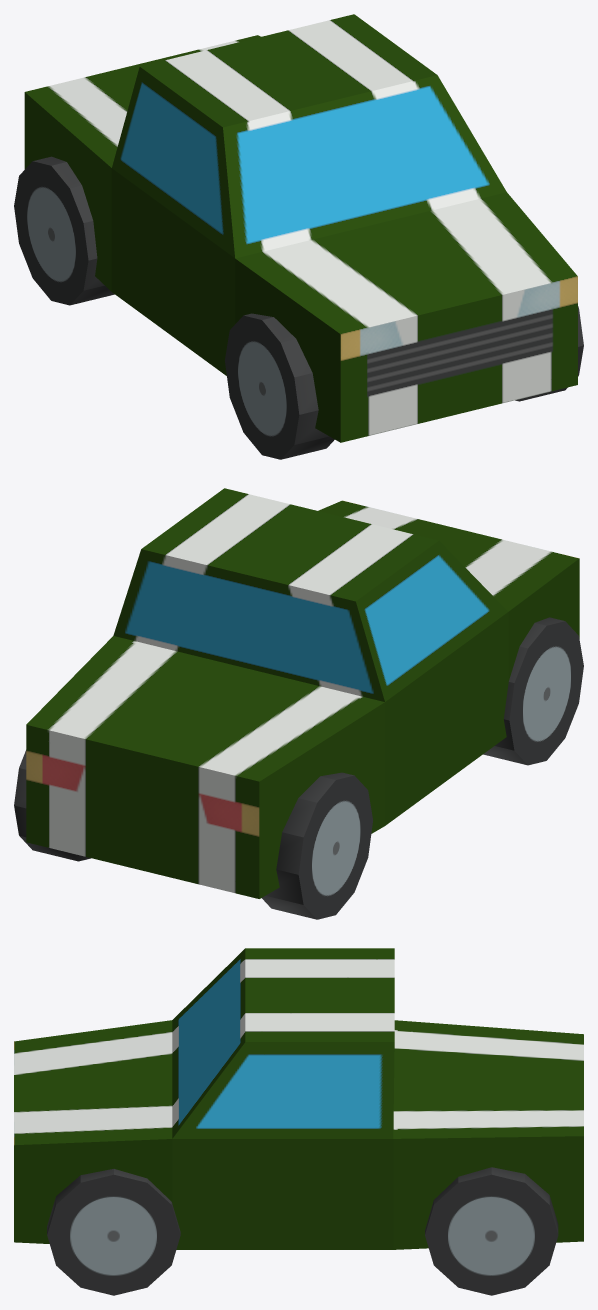
Rendered from Truck.fbx.
3 renders of one model, top to bottom at view 1: azimuth 30°, elevation 25°; view 2: azimuth 150°, elevation 25°; view 3: azimuth 270°, elevation 25°, orthographic. The views are drawn at different scales.
Parts seen in each view (by area): view 1: Car, FR, RR; view 2: Car, RR, FR, RL; view 3: Car, RL, FL.
Boxes of the visible parts, x1=… form: Car: x1=24, y1=14, x2=577, y2=442; FR: x1=225, y1=313, x2=334, y2=459; RR: x1=14, y1=156, x2=114, y2=305; Car: x1=26, y1=488, x2=579, y2=898; RR: x1=262, y1=772, x2=372, y2=919; FR: x1=483, y1=617, x2=583, y2=765; RL: x1=14, y1=750, x2=90, y2=861; Car: x1=14, y1=948, x2=583, y2=1249; RL: x1=425, y1=1167, x2=558, y2=1295; FL: x1=47, y1=1169, x2=180, y2=1295.
Bounding box in the file's own units: 207 × 184 × 400.
